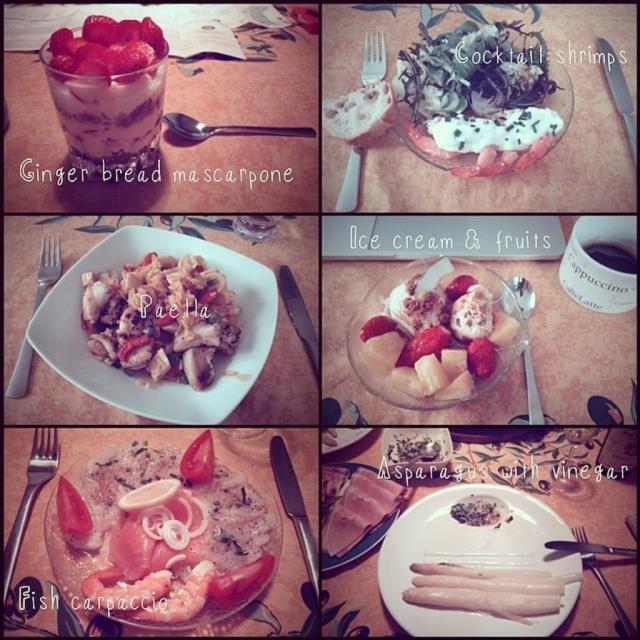non-organic waste: (18, 206, 312, 436), (379, 486, 622, 640)
